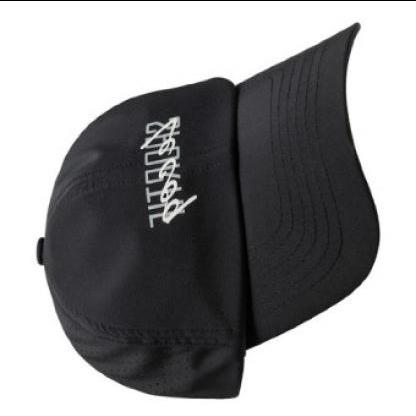cap: (32, 11, 383, 402)
